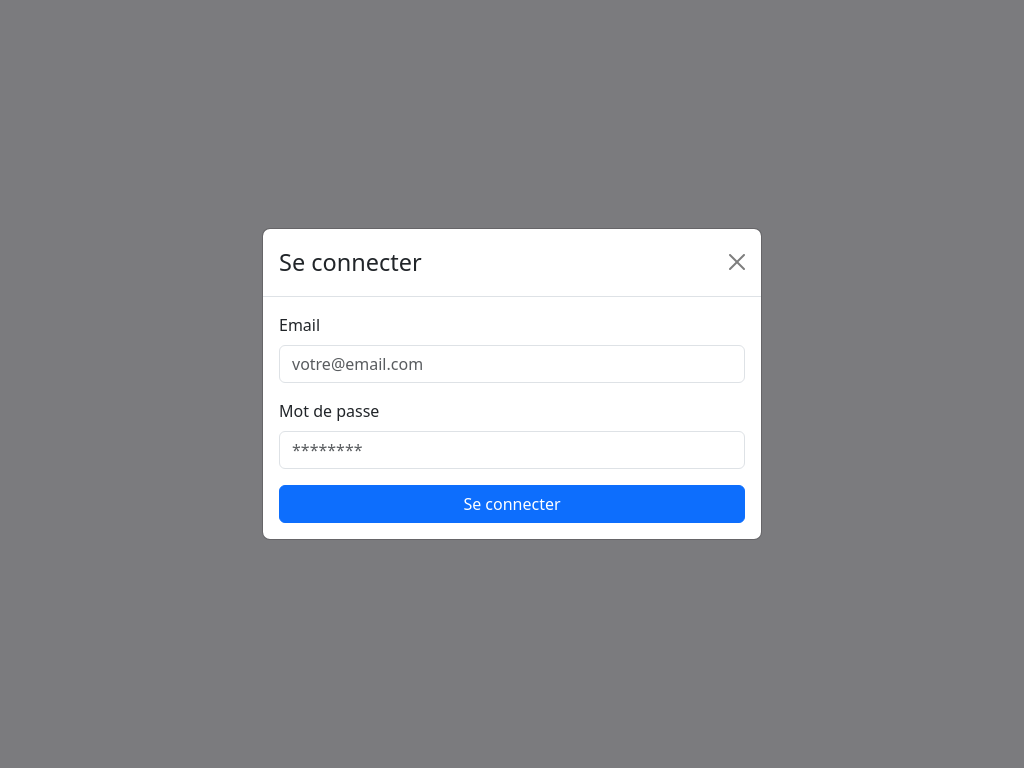
Test case: LoginModal › affiche les erreurs de validation backend (422 + details)
This screenshot has width=1024, height=768.
Type "user@test.com" into the field with placeholder "votre@email.com".
click(512, 364); type("user@test.com")  # box [279,345,745,383]
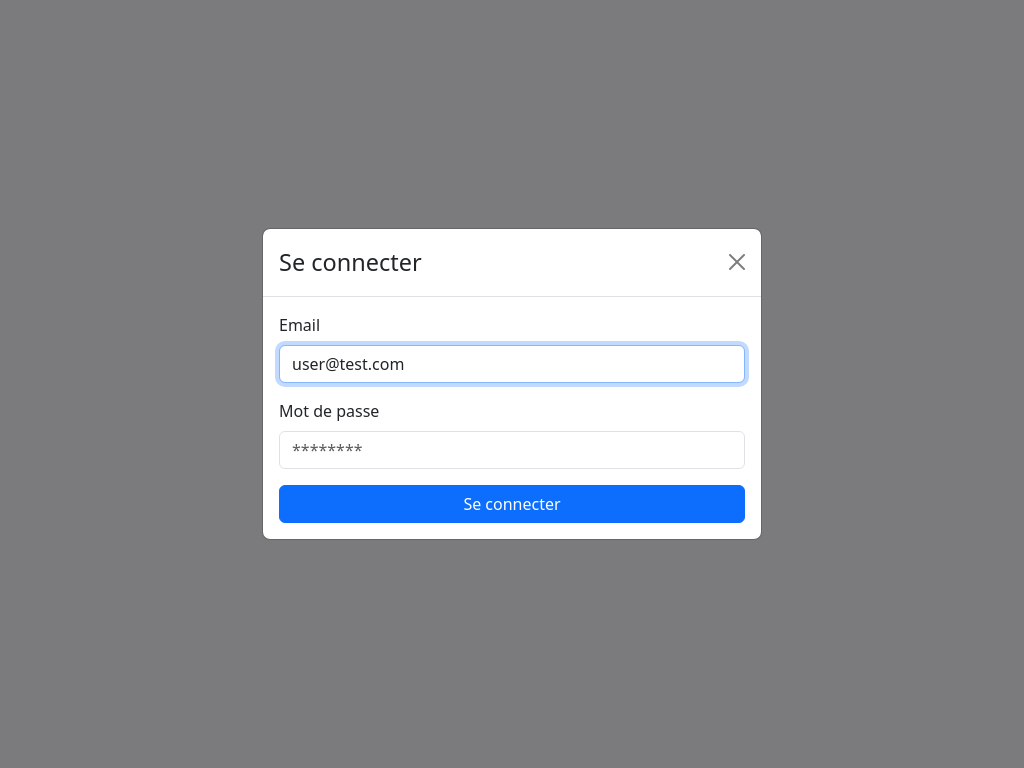
Type "Password123!" into the password field with placeholder "********".
click(512, 450); type("Password123!")  # box [279,431,745,469]
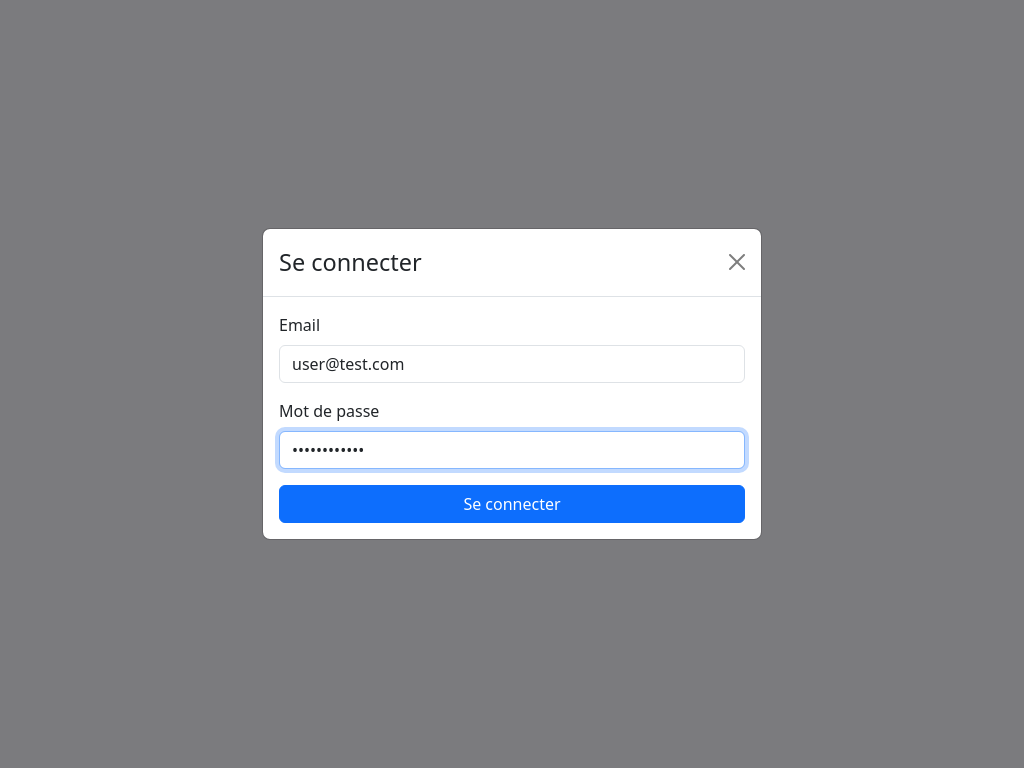
Click the button "Se connecter".
click(512, 504)  # box [279,485,745,523]
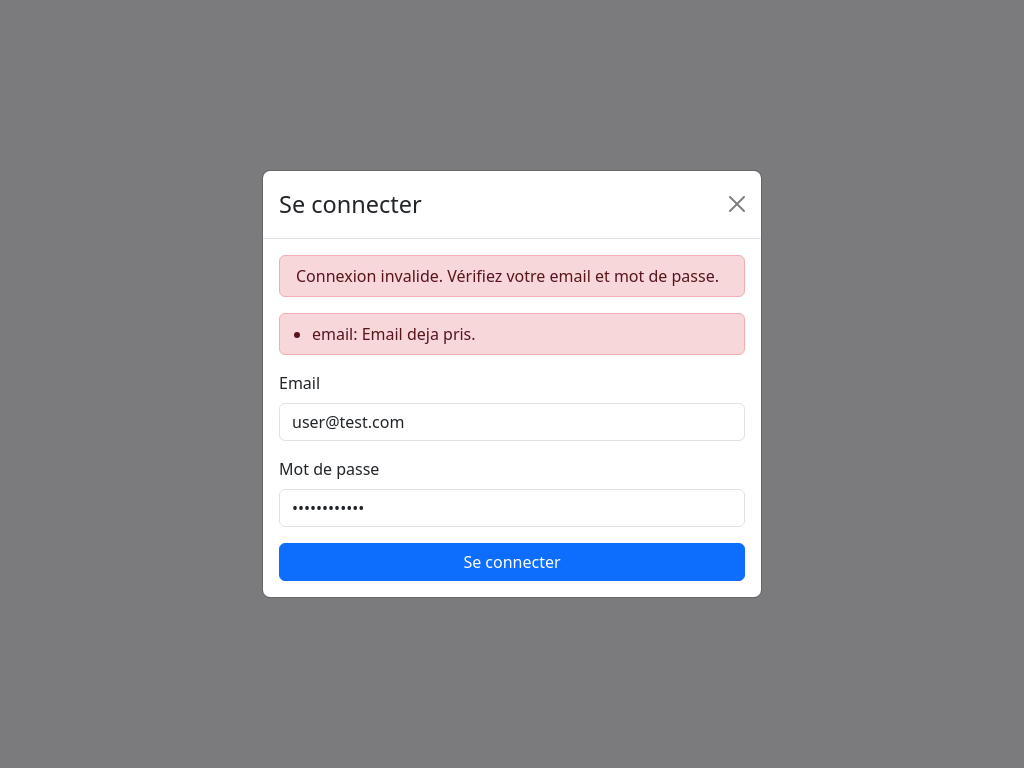
Now the list item "email: Email deja pris." is shown, box [312,323,476,345]
